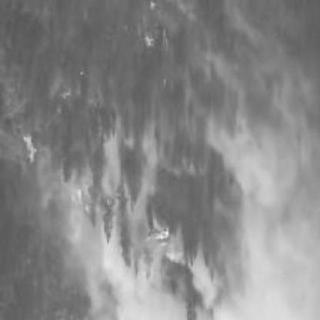Fire: (62, 175, 160, 231), (128, 2, 168, 56), (52, 86, 74, 106)
Smoke: (214, 111, 313, 319), (91, 257, 171, 315)
